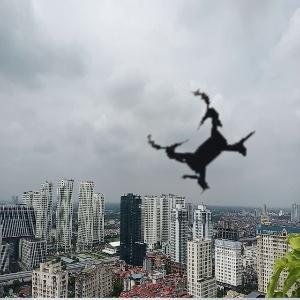drone: (118, 62, 289, 233)
